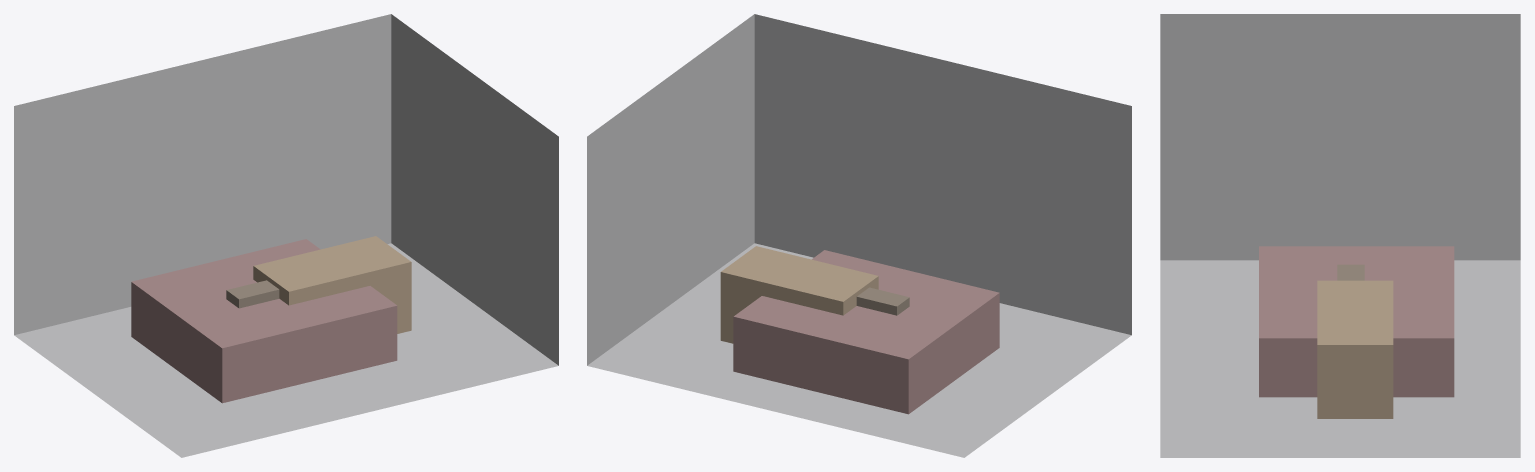
Rendered from optimised_layout.glb.
3 renders of one model, left to right at view 1: azimuth 30°, elevation 25°; view 2: azimuth 150°, elevation 25°; view 3: azimuth 270°, elevation 25°, orthographic. The views are drawn at different scales.
Parts seen in each view (by area): view 1: room, bed, desk, suitcase; view 2: room, bed, desk, suitcase; view 3: room, bed, desk, suitcase.
Boxes of the visible parts, <box> form: room: <box>14,14,558,457</box>; bed: <box>131,239,397,403</box>; desk: <box>253,236,411,333</box>; suitcase: <box>226,280,279,308</box>; room: <box>587,14,1131,457</box>; bed: <box>733,250,999,414</box>; desk: <box>720,246,878,343</box>; suitcase: <box>856,287,909,315</box>; room: <box>1160,14,1520,457</box>; bed: <box>1259,246,1454,397</box>; desk: <box>1317,280,1393,418</box>; suitcase: <box>1337,264,1364,280</box>.
Size of the model in its own units: 4.31 by 2.5 by 3.31.
